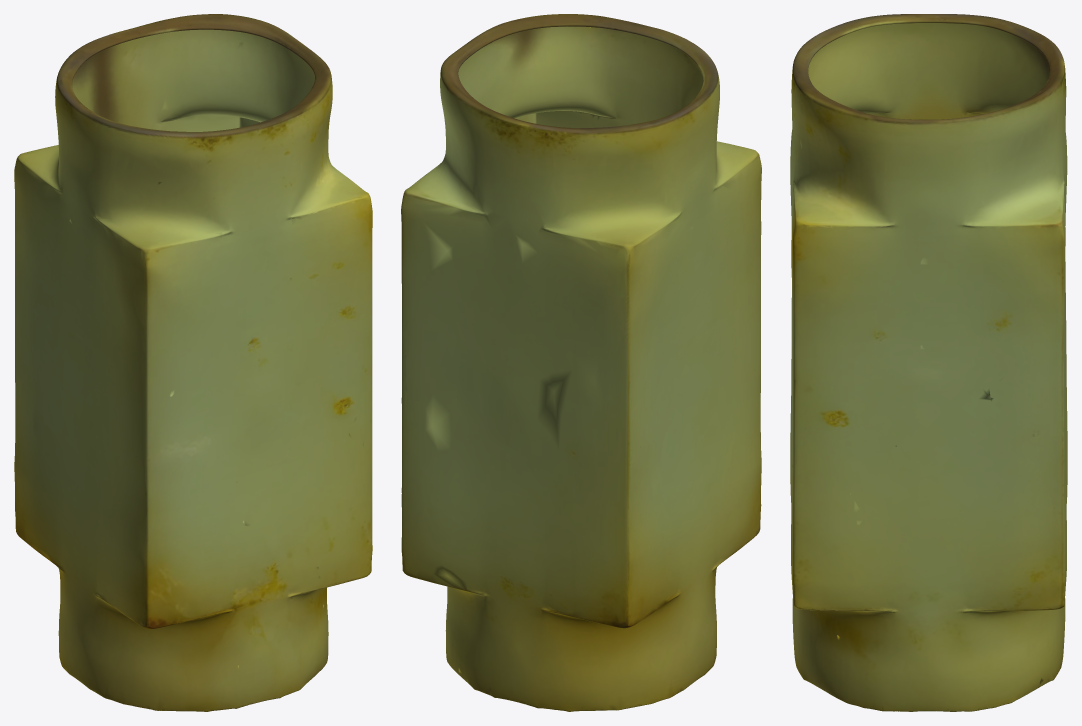
File: zhou.glb
The picture shows the model from 3 angles, left to right: view 1: azimuth 30°, elevation 25°; view 2: azimuth 150°, elevation 25°; view 3: azimuth 270°, elevation 25°; orthographic projection. The views are drawn at different scales.
Parts seen in each view (by area): view 1: node_0; view 2: node_0; view 3: node_0.
Part boxes in pixels (x1,y1,x2,y2): node_0: [14, 14, 372, 711]; node_0: [401, 14, 761, 711]; node_0: [790, 14, 1067, 711].
Bounding box in the file's own units: 0.4637 × 1.1 × 0.4641.
1 material, 1 textured.
